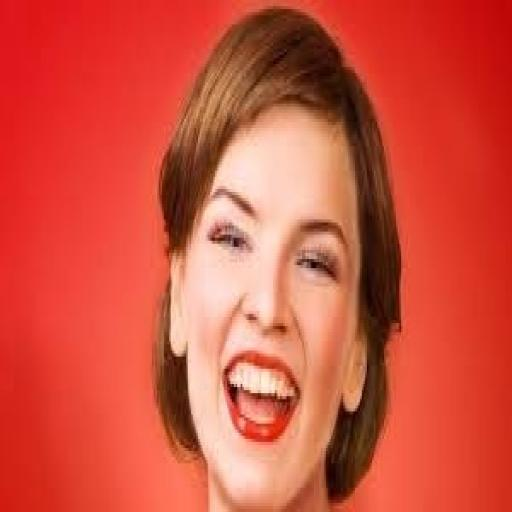laughing: (143, 6, 408, 506)
